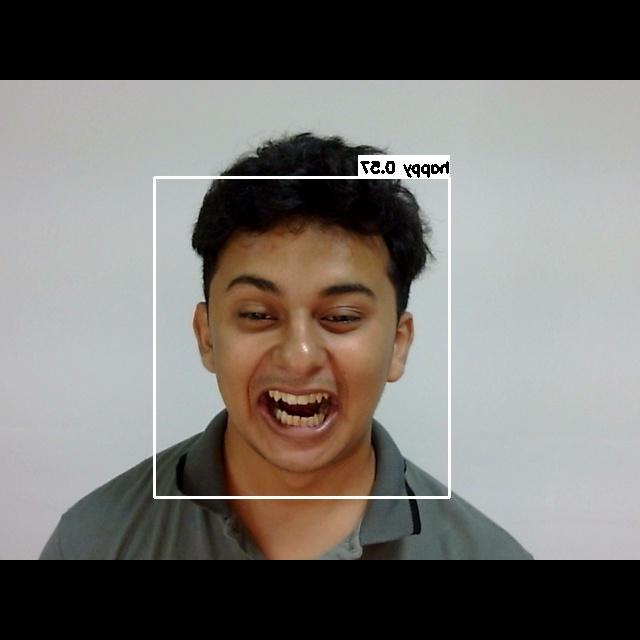Surprised: (191, 243, 417, 479)
